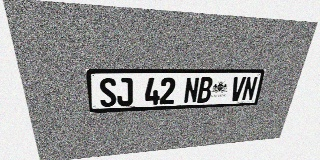2: (160, 77, 176, 104)
4: (145, 77, 161, 105)
B: (197, 77, 213, 103)
J: (116, 78, 133, 106)
N: (183, 77, 200, 103), (241, 77, 258, 101)
S: (99, 78, 117, 107)
V: (229, 77, 246, 101)
